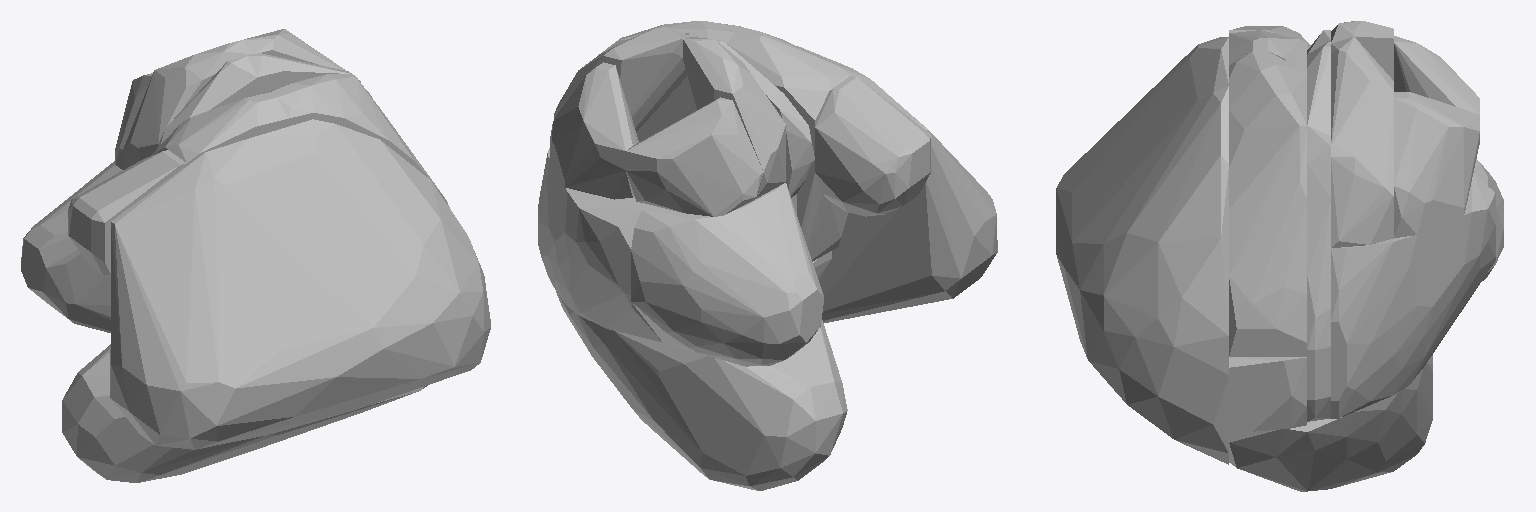
robot.urdf — root:
<robot name="root">
  <link name="link_thingiverse~honey_bear_base_2529999_convex_piece_0">
    <inertial>
      <origin rpy="0 0 0" xyz="0 0 0"/>
      <mass value="2.81E-01"/>
      <inertia ixx="2.28E-04" ixy="4.53E-05" ixz="-1.38E-05" iyy="2.26E-04" iyz="-1.40E-05" izz="3.31E-04"/>
    </inertial>
    <visual>
      <origin rpy="0 0 0" xyz="0 0 0"/>
      <geometry>
        <mesh filename="thingiverse~honey_bear_base_2529999_convex_piece_0.obj" scale="1.0000E+00 1.0000E+00 1.0000E+00"/>
      </geometry>
      <material name="">
        <color rgba="7.50E-01 7.50E-01 7.50E-01 1"/>
      </material>
    </visual>
    <collision>
      <origin rpy="0 0 0" xyz="0 0 0"/>
      <geometry>
        <mesh filename="thingiverse~honey_bear_base_2529999_convex_piece_0.obj" scale="1.0000E+00 1.0000E+00 1.0000E+00"/>
      </geometry>
    </collision>
  </link>
  <link name="link_thingiverse~honey_bear_base_2529999_convex_piece_1">
    <inertial>
      <origin rpy="0 0 0" xyz="0 0 0"/>
      <mass value="1.45E-01"/>
      <inertia ixx="1.61E-04" ixy="-1.38E-05" ixz="1.62E-05" iyy="1.78E-04" iyz="-4.97E-05" izz="8.54E-05"/>
    </inertial>
    <visual>
      <origin rpy="0 0 0" xyz="0 0 0"/>
      <geometry>
        <mesh filename="thingiverse~honey_bear_base_2529999_convex_piece_1.obj" scale="1.0000E+00 1.0000E+00 1.0000E+00"/>
      </geometry>
      <material name="">
        <color rgba="7.50E-01 7.50E-01 7.50E-01 1"/>
      </material>
    </visual>
    <collision>
      <origin rpy="0 0 0" xyz="0 0 0"/>
      <geometry>
        <mesh filename="thingiverse~honey_bear_base_2529999_convex_piece_1.obj" scale="1.0000E+00 1.0000E+00 1.0000E+00"/>
      </geometry>
    </collision>
  </link>
  <joint name="link_thingiverse~honey_bear_base_2529999_convex_piece_1_joint" type="fixed">
    <origin rpy="0 0 0" xyz="0 0 0"/>
    <parent link="link_thingiverse~honey_bear_base_2529999_convex_piece_0"/>
    <child link="link_thingiverse~honey_bear_base_2529999_convex_piece_1"/>
  </joint>
  <link name="link_thingiverse~honey_bear_base_2529999_convex_piece_2">
    <inertial>
      <origin rpy="0 0 0" xyz="0 0 0"/>
      <mass value="1.95E-02"/>
      <inertia ixx="1.31E-05" ixy="1.49E-06" ixz="-1.73E-05" iyy="3.90E-05" iyz="-1.02E-06" izz="2.70E-05"/>
    </inertial>
    <visual>
      <origin rpy="0 0 0" xyz="0 0 0"/>
      <geometry>
        <mesh filename="thingiverse~honey_bear_base_2529999_convex_piece_2.obj" scale="1.0000E+00 1.0000E+00 1.0000E+00"/>
      </geometry>
      <material name="">
        <color rgba="7.50E-01 7.50E-01 7.50E-01 1"/>
      </material>
    </visual>
    <collision>
      <origin rpy="0 0 0" xyz="0 0 0"/>
      <geometry>
        <mesh filename="thingiverse~honey_bear_base_2529999_convex_piece_2.obj" scale="1.0000E+00 1.0000E+00 1.0000E+00"/>
      </geometry>
    </collision>
  </link>
  <joint name="link_thingiverse~honey_bear_base_2529999_convex_piece_2_joint" type="fixed">
    <origin rpy="0 0 0" xyz="0 0 0"/>
    <parent link="link_thingiverse~honey_bear_base_2529999_convex_piece_1"/>
    <child link="link_thingiverse~honey_bear_base_2529999_convex_piece_2"/>
  </joint>
  <link name="link_thingiverse~honey_bear_base_2529999_convex_piece_3">
    <inertial>
      <origin rpy="0 0 0" xyz="0 0 0"/>
      <mass value="8.27E-02"/>
      <inertia ixx="7.73E-05" ixy="-4.08E-05" ixz="-2.91E-06" iyy="4.06E-05" iyz="5.58E-06" izz="1.03E-04"/>
    </inertial>
    <visual>
      <origin rpy="0 0 0" xyz="0 0 0"/>
      <geometry>
        <mesh filename="thingiverse~honey_bear_base_2529999_convex_piece_3.obj" scale="1.0000E+00 1.0000E+00 1.0000E+00"/>
      </geometry>
      <material name="">
        <color rgba="7.50E-01 7.50E-01 7.50E-01 1"/>
      </material>
    </visual>
    <collision>
      <origin rpy="0 0 0" xyz="0 0 0"/>
      <geometry>
        <mesh filename="thingiverse~honey_bear_base_2529999_convex_piece_3.obj" scale="1.0000E+00 1.0000E+00 1.0000E+00"/>
      </geometry>
    </collision>
  </link>
  <joint name="link_thingiverse~honey_bear_base_2529999_convex_piece_3_joint" type="fixed">
    <origin rpy="0 0 0" xyz="0 0 0"/>
    <parent link="link_thingiverse~honey_bear_base_2529999_convex_piece_2"/>
    <child link="link_thingiverse~honey_bear_base_2529999_convex_piece_3"/>
  </joint>
  <link name="link_thingiverse~honey_bear_base_2529999_convex_piece_4">
    <inertial>
      <origin rpy="0 0 0" xyz="0 0 0"/>
      <mass value="7.45E-02"/>
      <inertia ixx="5.50E-05" ixy="2.49E-05" ixz="3.88E-06" iyy="3.45E-05" iyz="6.98E-06" izz="7.30E-05"/>
    </inertial>
    <visual>
      <origin rpy="0 0 0" xyz="0 0 0"/>
      <geometry>
        <mesh filename="thingiverse~honey_bear_base_2529999_convex_piece_4.obj" scale="1.0000E+00 1.0000E+00 1.0000E+00"/>
      </geometry>
      <material name="">
        <color rgba="7.50E-01 7.50E-01 7.50E-01 1"/>
      </material>
    </visual>
    <collision>
      <origin rpy="0 0 0" xyz="0 0 0"/>
      <geometry>
        <mesh filename="thingiverse~honey_bear_base_2529999_convex_piece_4.obj" scale="1.0000E+00 1.0000E+00 1.0000E+00"/>
      </geometry>
    </collision>
  </link>
  <joint name="link_thingiverse~honey_bear_base_2529999_convex_piece_4_joint" type="fixed">
    <origin rpy="0 0 0" xyz="0 0 0"/>
    <parent link="link_thingiverse~honey_bear_base_2529999_convex_piece_3"/>
    <child link="link_thingiverse~honey_bear_base_2529999_convex_piece_4"/>
  </joint>
  <link name="link_thingiverse~honey_bear_base_2529999_convex_piece_5">
    <inertial>
      <origin rpy="0 0 0" xyz="0 0 0"/>
      <mass value="2.61E-02"/>
      <inertia ixx="1.44E-05" ixy="4.12E-06" ixz="5.13E-06" iyy="2.56E-05" iyz="2.86E-06" izz="1.48E-05"/>
    </inertial>
    <visual>
      <origin rpy="0 0 0" xyz="0 0 0"/>
      <geometry>
        <mesh filename="thingiverse~honey_bear_base_2529999_convex_piece_5.obj" scale="1.0000E+00 1.0000E+00 1.0000E+00"/>
      </geometry>
      <material name="">
        <color rgba="7.50E-01 7.50E-01 7.50E-01 1"/>
      </material>
    </visual>
    <collision>
      <origin rpy="0 0 0" xyz="0 0 0"/>
      <geometry>
        <mesh filename="thingiverse~honey_bear_base_2529999_convex_piece_5.obj" scale="1.0000E+00 1.0000E+00 1.0000E+00"/>
      </geometry>
    </collision>
  </link>
  <joint name="link_thingiverse~honey_bear_base_2529999_convex_piece_5_joint" type="fixed">
    <origin rpy="0 0 0" xyz="0 0 0"/>
    <parent link="link_thingiverse~honey_bear_base_2529999_convex_piece_4"/>
    <child link="link_thingiverse~honey_bear_base_2529999_convex_piece_5"/>
  </joint>
  <link name="link_thingiverse~honey_bear_base_2529999_convex_piece_6">
    <inertial>
      <origin rpy="0 0 0" xyz="0 0 0"/>
      <mass value="1.30E-02"/>
      <inertia ixx="2.13E-05" ixy="-2.69E-06" ixz="-5.38E-06" iyy="2.00E-05" iyz="7.61E-06" izz="6.06E-06"/>
    </inertial>
    <visual>
      <origin rpy="0 0 0" xyz="0 0 0"/>
      <geometry>
        <mesh filename="thingiverse~honey_bear_base_2529999_convex_piece_6.obj" scale="1.0000E+00 1.0000E+00 1.0000E+00"/>
      </geometry>
      <material name="">
        <color rgba="7.50E-01 7.50E-01 7.50E-01 1"/>
      </material>
    </visual>
    <collision>
      <origin rpy="0 0 0" xyz="0 0 0"/>
      <geometry>
        <mesh filename="thingiverse~honey_bear_base_2529999_convex_piece_6.obj" scale="1.0000E+00 1.0000E+00 1.0000E+00"/>
      </geometry>
    </collision>
  </link>
  <joint name="link_thingiverse~honey_bear_base_2529999_convex_piece_6_joint" type="fixed">
    <origin rpy="0 0 0" xyz="0 0 0"/>
    <parent link="link_thingiverse~honey_bear_base_2529999_convex_piece_5"/>
    <child link="link_thingiverse~honey_bear_base_2529999_convex_piece_6"/>
  </joint>
  <link name="link_thingiverse~honey_bear_base_2529999_convex_piece_7">
    <inertial>
      <origin rpy="0 0 0" xyz="0 0 0"/>
      <mass value="1.19E-02"/>
      <inertia ixx="2.28E-05" ixy="-3.48E-06" ixz="-3.59E-06" iyy="1.28E-05" iyz="1.11E-05" izz="1.31E-05"/>
    </inertial>
    <visual>
      <origin rpy="0 0 0" xyz="0 0 0"/>
      <geometry>
        <mesh filename="thingiverse~honey_bear_base_2529999_convex_piece_7.obj" scale="1.0000E+00 1.0000E+00 1.0000E+00"/>
      </geometry>
      <material name="">
        <color rgba="7.50E-01 7.50E-01 7.50E-01 1"/>
      </material>
    </visual>
    <collision>
      <origin rpy="0 0 0" xyz="0 0 0"/>
      <geometry>
        <mesh filename="thingiverse~honey_bear_base_2529999_convex_piece_7.obj" scale="1.0000E+00 1.0000E+00 1.0000E+00"/>
      </geometry>
    </collision>
  </link>
  <joint name="link_thingiverse~honey_bear_base_2529999_convex_piece_7_joint" type="fixed">
    <origin rpy="0 0 0" xyz="0 0 0"/>
    <parent link="link_thingiverse~honey_bear_base_2529999_convex_piece_6"/>
    <child link="link_thingiverse~honey_bear_base_2529999_convex_piece_7"/>
  </joint>
  <link name="link_thingiverse~honey_bear_base_2529999_convex_piece_8">
    <inertial>
      <origin rpy="0 0 0" xyz="0 0 0"/>
      <mass value="1.67E-02"/>
      <inertia ixx="2.65E-05" ixy="5.23E-06" ixz="1.04E-05" iyy="2.86E-05" iyz="9.61E-06" izz="1.16E-05"/>
    </inertial>
    <visual>
      <origin rpy="0 0 0" xyz="0 0 0"/>
      <geometry>
        <mesh filename="thingiverse~honey_bear_base_2529999_convex_piece_8.obj" scale="1.0000E+00 1.0000E+00 1.0000E+00"/>
      </geometry>
      <material name="">
        <color rgba="7.50E-01 7.50E-01 7.50E-01 1"/>
      </material>
    </visual>
    <collision>
      <origin rpy="0 0 0" xyz="0 0 0"/>
      <geometry>
        <mesh filename="thingiverse~honey_bear_base_2529999_convex_piece_8.obj" scale="1.0000E+00 1.0000E+00 1.0000E+00"/>
      </geometry>
    </collision>
  </link>
  <joint name="link_thingiverse~honey_bear_base_2529999_convex_piece_8_joint" type="fixed">
    <origin rpy="0 0 0" xyz="0 0 0"/>
    <parent link="link_thingiverse~honey_bear_base_2529999_convex_piece_7"/>
    <child link="link_thingiverse~honey_bear_base_2529999_convex_piece_8"/>
  </joint>
  <link name="link_thingiverse~honey_bear_base_2529999_convex_piece_9">
    <inertial>
      <origin rpy="0 0 0" xyz="0 0 0"/>
      <mass value="1.43E-02"/>
      <inertia ixx="2.77E-05" ixy="6.30E-06" ixz="6.44E-06" iyy="1.76E-05" iyz="1.34E-05" izz="1.76E-05"/>
    </inertial>
    <visual>
      <origin rpy="0 0 0" xyz="0 0 0"/>
      <geometry>
        <mesh filename="thingiverse~honey_bear_base_2529999_convex_piece_9.obj" scale="1.0000E+00 1.0000E+00 1.0000E+00"/>
      </geometry>
      <material name="">
        <color rgba="7.50E-01 7.50E-01 7.50E-01 1"/>
      </material>
    </visual>
    <collision>
      <origin rpy="0 0 0" xyz="0 0 0"/>
      <geometry>
        <mesh filename="thingiverse~honey_bear_base_2529999_convex_piece_9.obj" scale="1.0000E+00 1.0000E+00 1.0000E+00"/>
      </geometry>
    </collision>
  </link>
  <joint name="link_thingiverse~honey_bear_base_2529999_convex_piece_9_joint" type="fixed">
    <origin rpy="0 0 0" xyz="0 0 0"/>
    <parent link="link_thingiverse~honey_bear_base_2529999_convex_piece_8"/>
    <child link="link_thingiverse~honey_bear_base_2529999_convex_piece_9"/>
  </joint>
  <link name="link_thingiverse~honey_bear_base_2529999_convex_piece_10">
    <inertial>
      <origin rpy="0 0 0" xyz="0 0 0"/>
      <mass value="6.99E-03"/>
      <inertia ixx="9.49E-07" ixy="2.18E-07" ixz="8.81E-07" iyy="2.18E-06" iyz="1.71E-07" izz="1.60E-06"/>
    </inertial>
    <visual>
      <origin rpy="0 0 0" xyz="0 0 0"/>
      <geometry>
        <mesh filename="thingiverse~honey_bear_base_2529999_convex_piece_10.obj" scale="1.0000E+00 1.0000E+00 1.0000E+00"/>
      </geometry>
      <material name="">
        <color rgba="7.50E-01 7.50E-01 7.50E-01 1"/>
      </material>
    </visual>
    <collision>
      <origin rpy="0 0 0" xyz="0 0 0"/>
      <geometry>
        <mesh filename="thingiverse~honey_bear_base_2529999_convex_piece_10.obj" scale="1.0000E+00 1.0000E+00 1.0000E+00"/>
      </geometry>
    </collision>
  </link>
  <joint name="link_thingiverse~honey_bear_base_2529999_convex_piece_10_joint" type="fixed">
    <origin rpy="0 0 0" xyz="0 0 0"/>
    <parent link="link_thingiverse~honey_bear_base_2529999_convex_piece_9"/>
    <child link="link_thingiverse~honey_bear_base_2529999_convex_piece_10"/>
  </joint>
  <link name="link_thingiverse~honey_bear_base_2529999_convex_piece_11">
    <inertial>
      <origin rpy="0 0 0" xyz="0 0 0"/>
      <mass value="4.05E-02"/>
      <inertia ixx="2.95E-05" ixy="1.40E-06" ixz="-1.28E-05" iyy="3.88E-05" iyz="-2.28E-06" izz="1.14E-05"/>
    </inertial>
    <visual>
      <origin rpy="0 0 0" xyz="0 0 0"/>
      <geometry>
        <mesh filename="thingiverse~honey_bear_base_2529999_convex_piece_11.obj" scale="1.0000E+00 1.0000E+00 1.0000E+00"/>
      </geometry>
      <material name="">
        <color rgba="7.50E-01 7.50E-01 7.50E-01 1"/>
      </material>
    </visual>
    <collision>
      <origin rpy="0 0 0" xyz="0 0 0"/>
      <geometry>
        <mesh filename="thingiverse~honey_bear_base_2529999_convex_piece_11.obj" scale="1.0000E+00 1.0000E+00 1.0000E+00"/>
      </geometry>
    </collision>
  </link>
  <joint name="link_thingiverse~honey_bear_base_2529999_convex_piece_11_joint" type="fixed">
    <origin rpy="0 0 0" xyz="0 0 0"/>
    <parent link="link_thingiverse~honey_bear_base_2529999_convex_piece_10"/>
    <child link="link_thingiverse~honey_bear_base_2529999_convex_piece_11"/>
  </joint>
  <link name="link_thingiverse~honey_bear_base_2529999_convex_piece_12">
    <inertial>
      <origin rpy="0 0 0" xyz="0 0 0"/>
      <mass value="2.12E-02"/>
      <inertia ixx="2.47E-06" ixy="-1.36E-06" ixz="-4.61E-06" iyy="2.01E-05" iyz="4.72E-07" izz="1.88E-05"/>
    </inertial>
    <visual>
      <origin rpy="0 0 0" xyz="0 0 0"/>
      <geometry>
        <mesh filename="thingiverse~honey_bear_base_2529999_convex_piece_12.obj" scale="1.0000E+00 1.0000E+00 1.0000E+00"/>
      </geometry>
      <material name="">
        <color rgba="7.50E-01 7.50E-01 7.50E-01 1"/>
      </material>
    </visual>
    <collision>
      <origin rpy="0 0 0" xyz="0 0 0"/>
      <geometry>
        <mesh filename="thingiverse~honey_bear_base_2529999_convex_piece_12.obj" scale="1.0000E+00 1.0000E+00 1.0000E+00"/>
      </geometry>
    </collision>
  </link>
  <joint name="link_thingiverse~honey_bear_base_2529999_convex_piece_12_joint" type="fixed">
    <origin rpy="0 0 0" xyz="0 0 0"/>
    <parent link="link_thingiverse~honey_bear_base_2529999_convex_piece_11"/>
    <child link="link_thingiverse~honey_bear_base_2529999_convex_piece_12"/>
  </joint>
  <link name="link_thingiverse~honey_bear_base_2529999_convex_piece_13">
    <inertial>
      <origin rpy="0 0 0" xyz="0 0 0"/>
      <mass value="5.30E-02"/>
      <inertia ixx="3.56E-05" ixy="-2.08E-06" ixz="1.87E-05" iyy="6.09E-05" iyz="-2.44E-06" izz="2.80E-05"/>
    </inertial>
    <visual>
      <origin rpy="0 0 0" xyz="0 0 0"/>
      <geometry>
        <mesh filename="thingiverse~honey_bear_base_2529999_convex_piece_13.obj" scale="1.0000E+00 1.0000E+00 1.0000E+00"/>
      </geometry>
      <material name="">
        <color rgba="7.50E-01 7.50E-01 7.50E-01 1"/>
      </material>
    </visual>
    <collision>
      <origin rpy="0 0 0" xyz="0 0 0"/>
      <geometry>
        <mesh filename="thingiverse~honey_bear_base_2529999_convex_piece_13.obj" scale="1.0000E+00 1.0000E+00 1.0000E+00"/>
      </geometry>
    </collision>
  </link>
  <joint name="link_thingiverse~honey_bear_base_2529999_convex_piece_13_joint" type="fixed">
    <origin rpy="0 0 0" xyz="0 0 0"/>
    <parent link="link_thingiverse~honey_bear_base_2529999_convex_piece_12"/>
    <child link="link_thingiverse~honey_bear_base_2529999_convex_piece_13"/>
  </joint>
  <link name="link_thingiverse~honey_bear_base_2529999_convex_piece_14">
    <inertial>
      <origin rpy="0 0 0" xyz="0 0 0"/>
      <mass value="5.17E-03"/>
      <inertia ixx="7.72E-07" ixy="-5.62E-07" ixz="1.15E-08" iyy="1.46E-06" iyz="-7.73E-08" izz="1.40E-06"/>
    </inertial>
    <visual>
      <origin rpy="0 0 0" xyz="0 0 0"/>
      <geometry>
        <mesh filename="thingiverse~honey_bear_base_2529999_convex_piece_14.obj" scale="1.0000E+00 1.0000E+00 1.0000E+00"/>
      </geometry>
      <material name="">
        <color rgba="7.50E-01 7.50E-01 7.50E-01 1"/>
      </material>
    </visual>
    <collision>
      <origin rpy="0 0 0" xyz="0 0 0"/>
      <geometry>
        <mesh filename="thingiverse~honey_bear_base_2529999_convex_piece_14.obj" scale="1.0000E+00 1.0000E+00 1.0000E+00"/>
      </geometry>
    </collision>
  </link>
  <joint name="link_thingiverse~honey_bear_base_2529999_convex_piece_14_joint" type="fixed">
    <origin rpy="0 0 0" xyz="0 0 0"/>
    <parent link="link_thingiverse~honey_bear_base_2529999_convex_piece_13"/>
    <child link="link_thingiverse~honey_bear_base_2529999_convex_piece_14"/>
  </joint>
  <link name="link_thingiverse~honey_bear_base_2529999_convex_piece_15">
    <inertial>
      <origin rpy="0 0 0" xyz="0 0 0"/>
      <mass value="6.38E-03"/>
      <inertia ixx="7.73E-06" ixy="-6.58E-07" ixz="-2.44E-06" iyy="8.61E-06" iyz="1.71E-06" izz="1.75E-06"/>
    </inertial>
    <visual>
      <origin rpy="0 0 0" xyz="0 0 0"/>
      <geometry>
        <mesh filename="thingiverse~honey_bear_base_2529999_convex_piece_15.obj" scale="1.0000E+00 1.0000E+00 1.0000E+00"/>
      </geometry>
      <material name="">
        <color rgba="7.50E-01 7.50E-01 7.50E-01 1"/>
      </material>
    </visual>
    <collision>
      <origin rpy="0 0 0" xyz="0 0 0"/>
      <geometry>
        <mesh filename="thingiverse~honey_bear_base_2529999_convex_piece_15.obj" scale="1.0000E+00 1.0000E+00 1.0000E+00"/>
      </geometry>
    </collision>
  </link>
  <joint name="link_thingiverse~honey_bear_base_2529999_convex_piece_15_joint" type="fixed">
    <origin rpy="0 0 0" xyz="0 0 0"/>
    <parent link="link_thingiverse~honey_bear_base_2529999_convex_piece_14"/>
    <child link="link_thingiverse~honey_bear_base_2529999_convex_piece_15"/>
  </joint>
</robot>

--- Facts derived from the render (not from the file) ---
Views: 3 orthographic renders of the robot side by side, from view 1: azimuth 30°, elevation 25°; view 2: azimuth 150°, elevation 25°; view 3: azimuth 270°, elevation 25°.
Model root with 16 links and 15 joints (15 fixed), rooted at link_thingiverse~honey_bear_base_2529999_convex_piece_0, posed every joint at zero.
Links seen in each view (by area): view 1: link_thingiverse~honey_bear_base_2529999_convex_piece_0, link_thingiverse~honey_bear_base_2529999_convex_piece_1, link_thingiverse~honey_bear_base_2529999_convex_piece_3, link_thingiverse~honey_bear_base_2529999_convex_piece_2, link_thingiverse~honey_bear_base_2529999_convex_piece_13, link_thingiverse~honey_bear_base_2529999_convex_piece_6, link_thingiverse~honey_bear_base_2529999_convex_piece_11, link_thingiverse~honey_bear_base_2529999_convex_piece_15, link_thingiverse~honey_bear_base_2529999_convex_piece_5, link_thingiverse~honey_bear_base_2529999_convex_piece_8, link_thingiverse~honey_bear_base_2529999_convex_piece_7; view 2: link_thingiverse~honey_bear_base_2529999_convex_piece_1, link_thingiverse~honey_bear_base_2529999_convex_piece_3, link_thingiverse~honey_bear_base_2529999_convex_piece_0, link_thingiverse~honey_bear_base_2529999_convex_piece_4, link_thingiverse~honey_bear_base_2529999_convex_piece_2, link_thingiverse~honey_bear_base_2529999_convex_piece_7, link_thingiverse~honey_bear_base_2529999_convex_piece_9, link_thingiverse~honey_bear_base_2529999_convex_piece_11, link_thingiverse~honey_bear_base_2529999_convex_piece_6, link_thingiverse~honey_bear_base_2529999_convex_piece_8, link_thingiverse~honey_bear_base_2529999_convex_piece_15, link_thingiverse~honey_bear_base_2529999_convex_piece_5 (+1 smaller); view 3: link_thingiverse~honey_bear_base_2529999_convex_piece_0, link_thingiverse~honey_bear_base_2529999_convex_piece_13, link_thingiverse~honey_bear_base_2529999_convex_piece_4, link_thingiverse~honey_bear_base_2529999_convex_piece_1, link_thingiverse~honey_bear_base_2529999_convex_piece_8, link_thingiverse~honey_bear_base_2529999_convex_piece_9, link_thingiverse~honey_bear_base_2529999_convex_piece_5, link_thingiverse~honey_bear_base_2529999_convex_piece_12, link_thingiverse~honey_bear_base_2529999_convex_piece_7, link_thingiverse~honey_bear_base_2529999_convex_piece_11, link_thingiverse~honey_bear_base_2529999_convex_piece_6, link_thingiverse~honey_bear_base_2529999_convex_piece_3.
Link boxes in pixels (x1,y1,x2,y2): link_thingiverse~honey_bear_base_2529999_convex_piece_0: (110, 119, 490, 449); link_thingiverse~honey_bear_base_2529999_convex_piece_1: (62, 344, 427, 482); link_thingiverse~honey_bear_base_2529999_convex_piece_3: (21, 161, 122, 332); link_thingiverse~honey_bear_base_2529999_convex_piece_2: (68, 150, 186, 278); link_thingiverse~honey_bear_base_2529999_convex_piece_13: (270, 74, 449, 207); link_thingiverse~honey_bear_base_2529999_convex_piece_6: (123, 40, 252, 167); link_thingiverse~honey_bear_base_2529999_convex_piece_11: (151, 92, 287, 165); link_thingiverse~honey_bear_base_2529999_convex_piece_15: (156, 56, 257, 149); link_thingiverse~honey_bear_base_2529999_convex_piece_5: (247, 53, 371, 96); link_thingiverse~honey_bear_base_2529999_convex_piece_8: (243, 29, 360, 81); link_thingiverse~honey_bear_base_2529999_convex_piece_7: (115, 73, 152, 169); link_thingiverse~honey_bear_base_2529999_convex_piece_1: (556, 291, 847, 490); link_thingiverse~honey_bear_base_2529999_convex_piece_3: (631, 183, 823, 366); link_thingiverse~honey_bear_base_2529999_convex_piece_0: (798, 46, 997, 322); link_thingiverse~honey_bear_base_2529999_convex_piece_4: (538, 148, 662, 342); link_thingiverse~honey_bear_base_2529999_convex_piece_2: (815, 76, 930, 216); link_thingiverse~honey_bear_base_2529999_convex_piece_7: (626, 97, 763, 216); link_thingiverse~honey_bear_base_2529999_convex_piece_9: (549, 62, 638, 199); link_thingiverse~honey_bear_base_2529999_convex_piece_11: (727, 27, 850, 261); link_thingiverse~honey_bear_base_2529999_convex_piece_6: (683, 37, 785, 200); link_thingiverse~honey_bear_base_2529999_convex_piece_8: (554, 27, 691, 131); link_thingiverse~honey_bear_base_2529999_convex_piece_15: (716, 40, 814, 197); link_thingiverse~honey_bear_base_2529999_convex_piece_5: (539, 33, 698, 197); link_thingiverse~honey_bear_base_2529999_convex_piece_0: (1056, 37, 1228, 464); link_thingiverse~honey_bear_base_2529999_convex_piece_13: (1229, 51, 1306, 356); link_thingiverse~honey_bear_base_2529999_convex_piece_4: (1331, 173, 1495, 418); link_thingiverse~honey_bear_base_2529999_convex_piece_1: (1229, 355, 1432, 491); link_thingiverse~honey_bear_base_2529999_convex_piece_8: (1331, 37, 1393, 247); link_thingiverse~honey_bear_base_2529999_convex_piece_9: (1394, 92, 1479, 237); link_thingiverse~honey_bear_base_2529999_convex_piece_5: (1307, 41, 1330, 421); link_thingiverse~honey_bear_base_2529999_convex_piece_12: (1229, 357, 1306, 431); link_thingiverse~honey_bear_base_2529999_convex_piece_7: (1394, 36, 1479, 114); link_thingiverse~honey_bear_base_2529999_convex_piece_11: (1229, 30, 1306, 71); link_thingiverse~honey_bear_base_2529999_convex_piece_6: (1331, 21, 1393, 80); link_thingiverse~honey_bear_base_2529999_convex_piece_3: (1474, 159, 1503, 280).
Size in the robot's own frame: 0.097 by 0.0906 by 0.1017 metres.
16 mesh visuals loaded from 16 distinct referenced files (16 OBJ).
